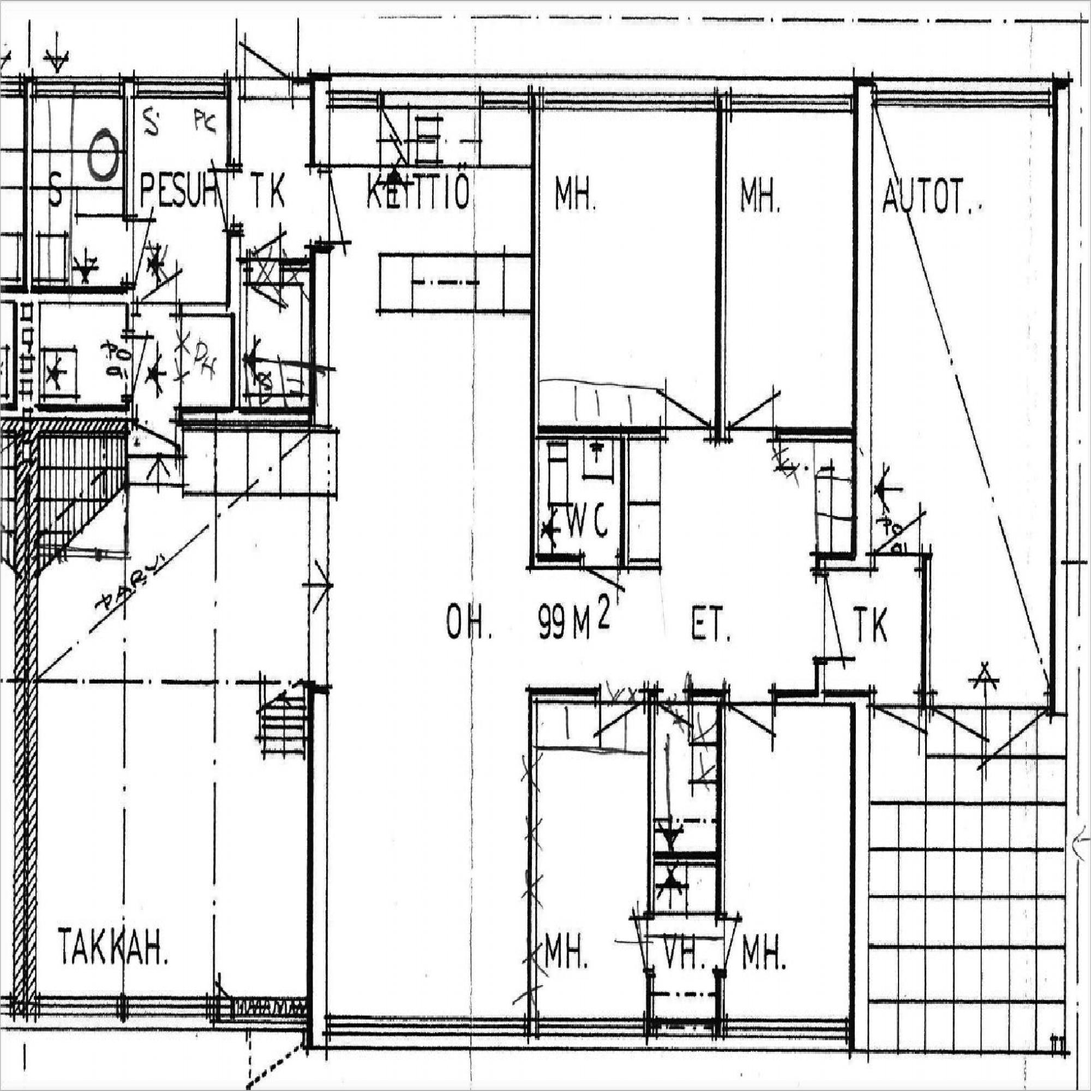wall: (310, 80, 1067, 109), (309, 1017, 870, 1048), (1050, 80, 1067, 705), (24, 998, 327, 1030), (24, 407, 37, 1030), (854, 80, 870, 571), (852, 690, 870, 1048), (309, 80, 326, 425), (530, 426, 870, 442), (309, 688, 326, 999), (529, 690, 853, 705), (24, 80, 240, 101), (530, 80, 539, 442), (716, 80, 725, 442), (852, 690, 1067, 705), (717, 690, 726, 1048), (24, 407, 133, 434), (227, 80, 240, 302), (647, 690, 654, 1048), (125, 407, 239, 425), (24, 80, 33, 302), (24, 302, 40, 425), (240, 80, 326, 101), (232, 407, 327, 425), (125, 80, 132, 315), (530, 553, 629, 569), (24, 288, 133, 302), (125, 302, 232, 315), (816, 556, 825, 705), (854, 555, 930, 572), (530, 426, 539, 569), (620, 426, 629, 569), (922, 555, 930, 706), (647, 852, 726, 866), (232, 302, 240, 425), (309, 998, 326, 1048), (816, 556, 870, 571), (125, 315, 132, 425), (528, 690, 537, 757), (629, 560, 661, 568), (125, 288, 132, 315)
